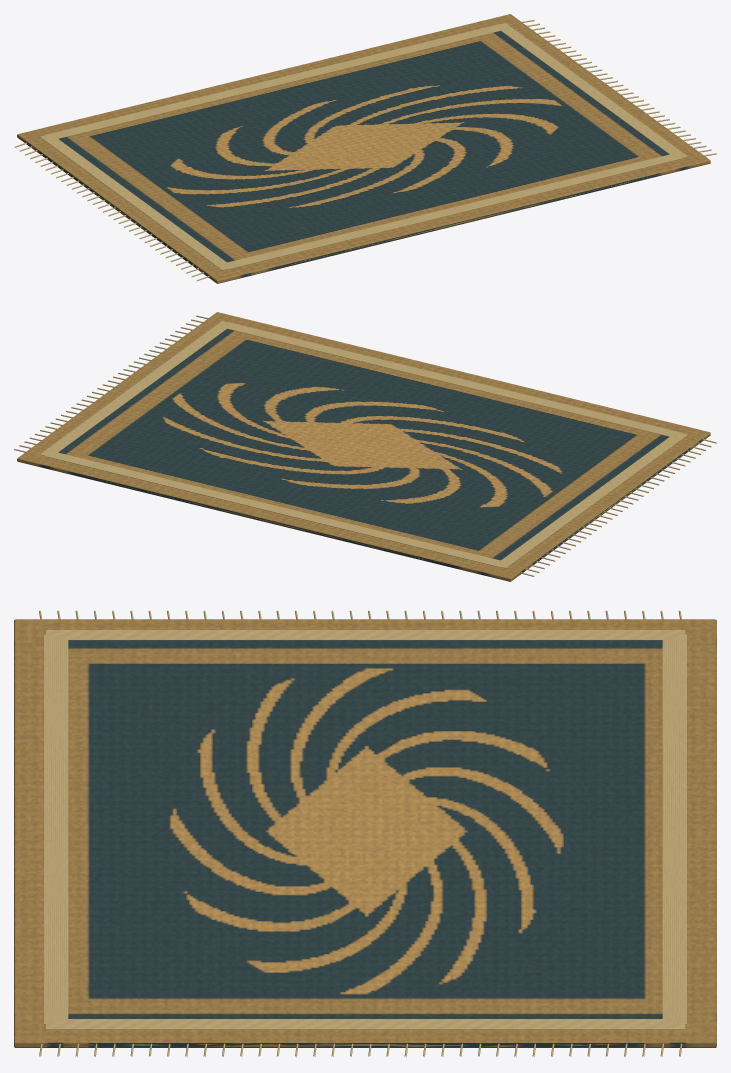
File: rug.glb
The picture shows the model from 3 angles, top to bottom: view 1: azimuth 30°, elevation 25°; view 2: azimuth 150°, elevation 25°; view 3: azimuth 270°, elevation 25°; orthographic projection. The views are drawn at different scales.
Visible parts, largest first — view 1: rug; view 2: rug; view 3: rug.
Boxes of the visible parts, bbox=[...] form: rug: bbox=[14, 14, 716, 283]; rug: bbox=[14, 312, 716, 581]; rug: bbox=[14, 610, 716, 1057].
Bounding box in the file's own units: 1.5 × 0.012 × 1.
2 materials, 2 textured.
